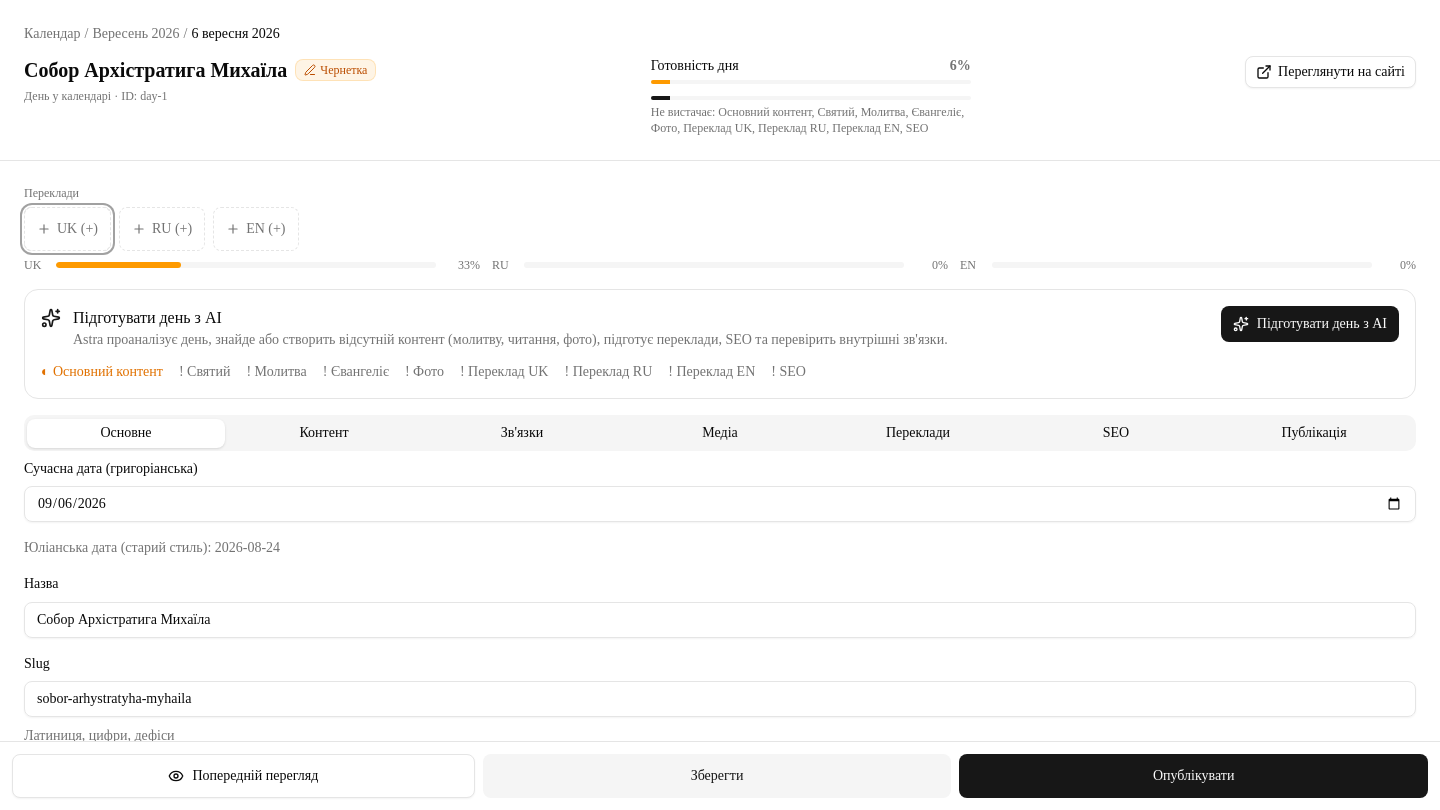
Test: CalendarDayForm relations tab › excludes a prayer already linked to a different day from the link picker
The width and height of the screenshot is (1440, 810).
What coordinates should you click on to do the following:
click the tab "Зв'язки"
I would click on:
 (522, 433)
Its box is [423,418,621,448].
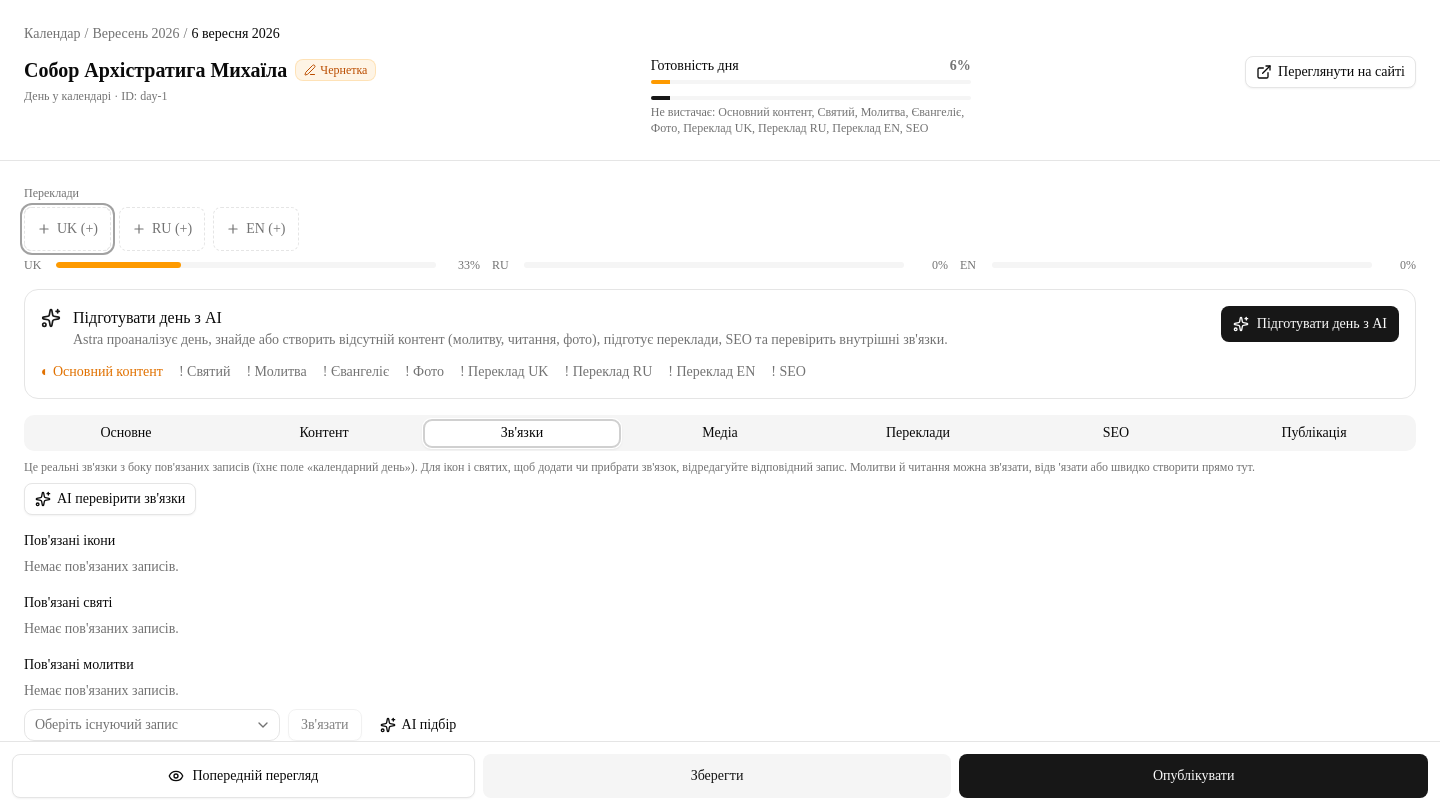
What coordinates should you click on to do the following:
click the dropdown labelled "Оберіть існуючий запис"
I would click on:
 (152, 725)
Its box is [24,709,280,741].
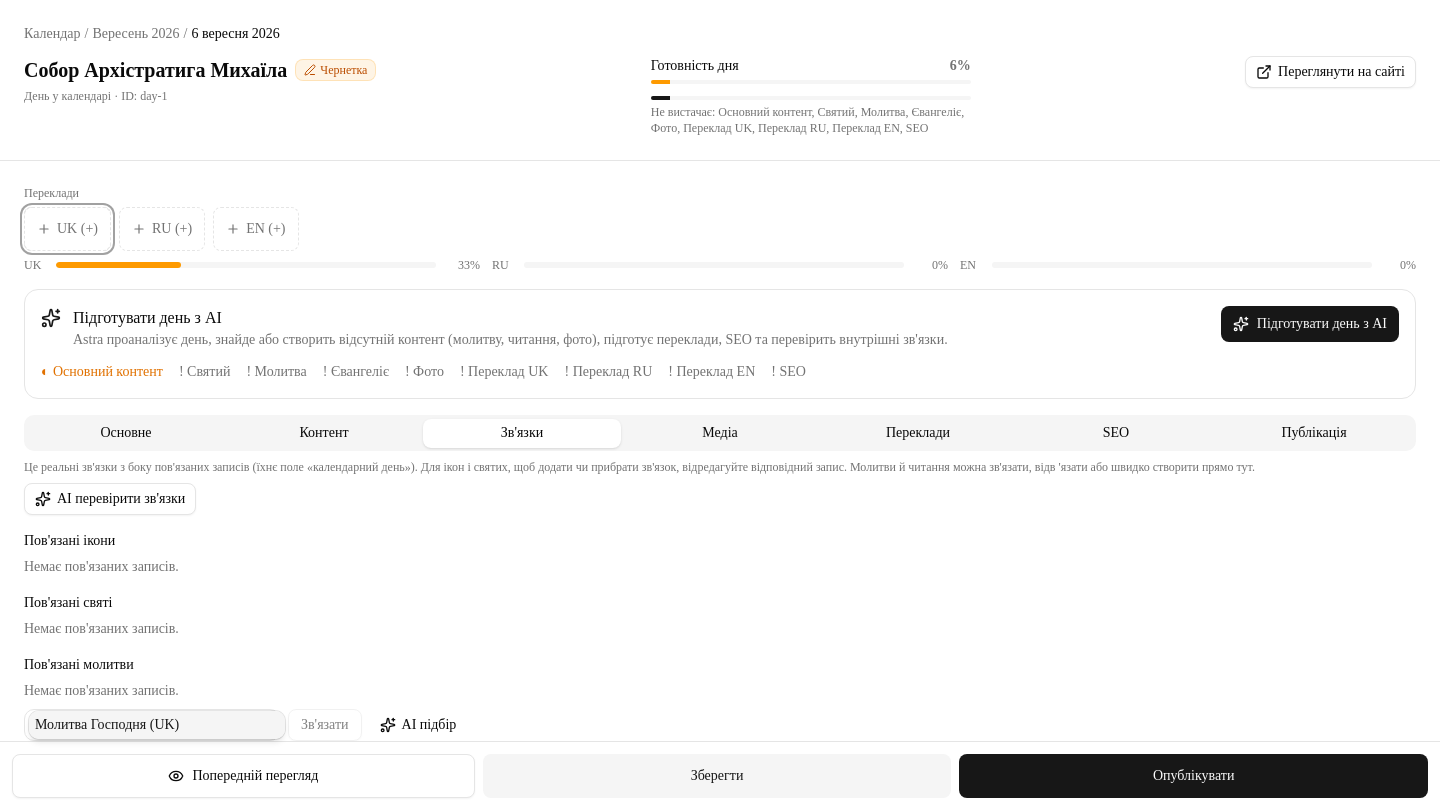
expect the option "Молитва Господня (UK)" is shown: met, box [29,711,285,739]
